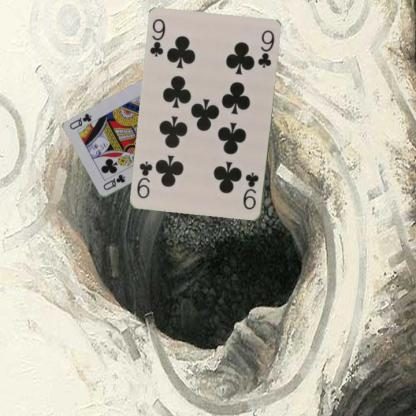9c: (147, 16, 167, 58), (240, 170, 260, 211)
Qc: (100, 172, 126, 192)
